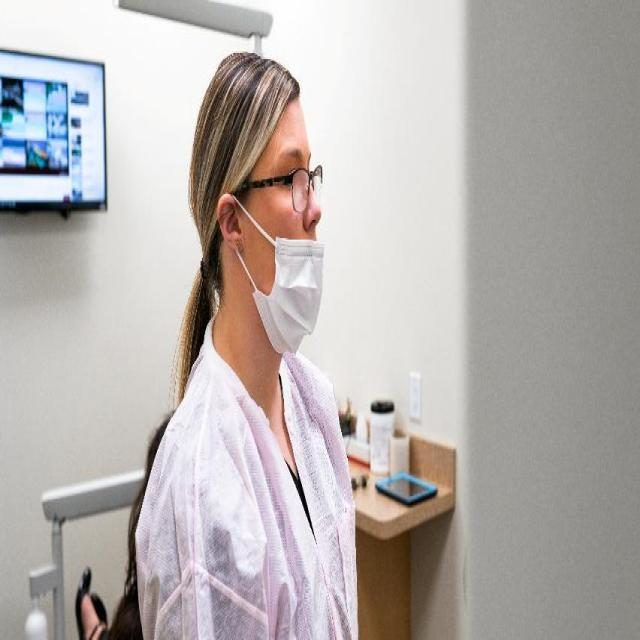hairnet: (215, 66, 322, 356)
